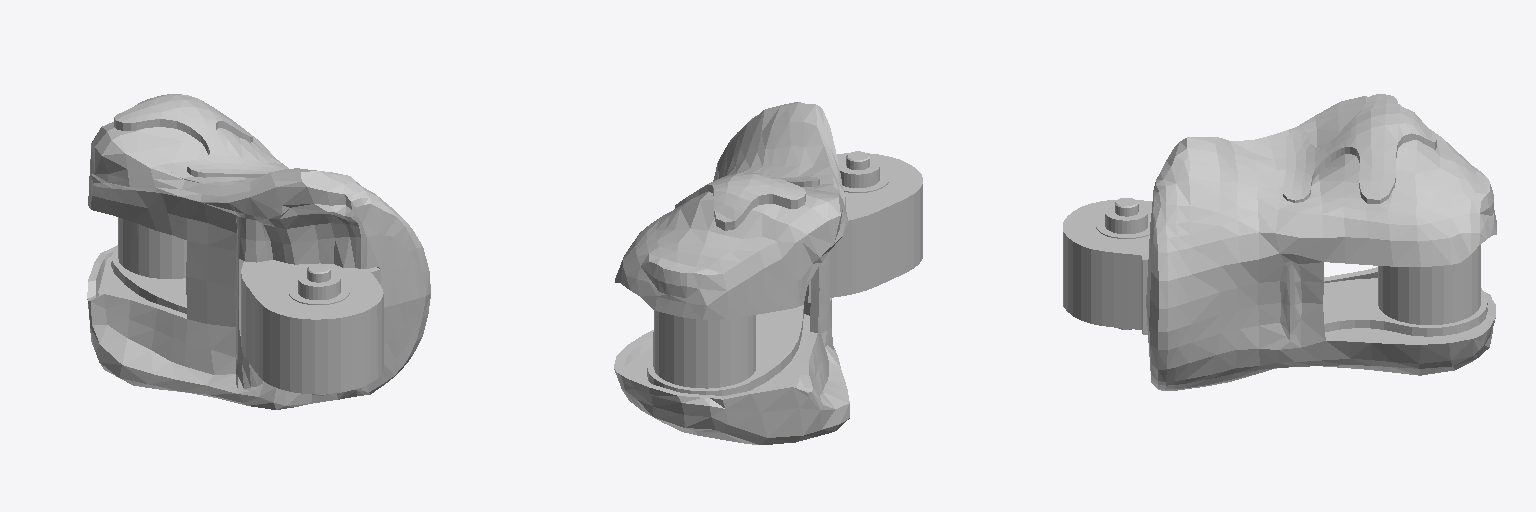
The model's file is LKneePitch.obj.
3 views of the same model, side by side, from view 1: azimuth 30°, elevation 25°; view 2: azimuth 150°, elevation 25°; view 3: azimuth 270°, elevation 25° (orthographic).
Visible parts, largest first — view 1: root; view 2: root; view 3: root.
Part boxes in pixels (x1,y1,x2,y2): root: (87,94,430,409); root: (614,102,922,444); root: (1063,94,1496,390).
Bounding box in the file's own units: 89.68 × 93.29 × 148.